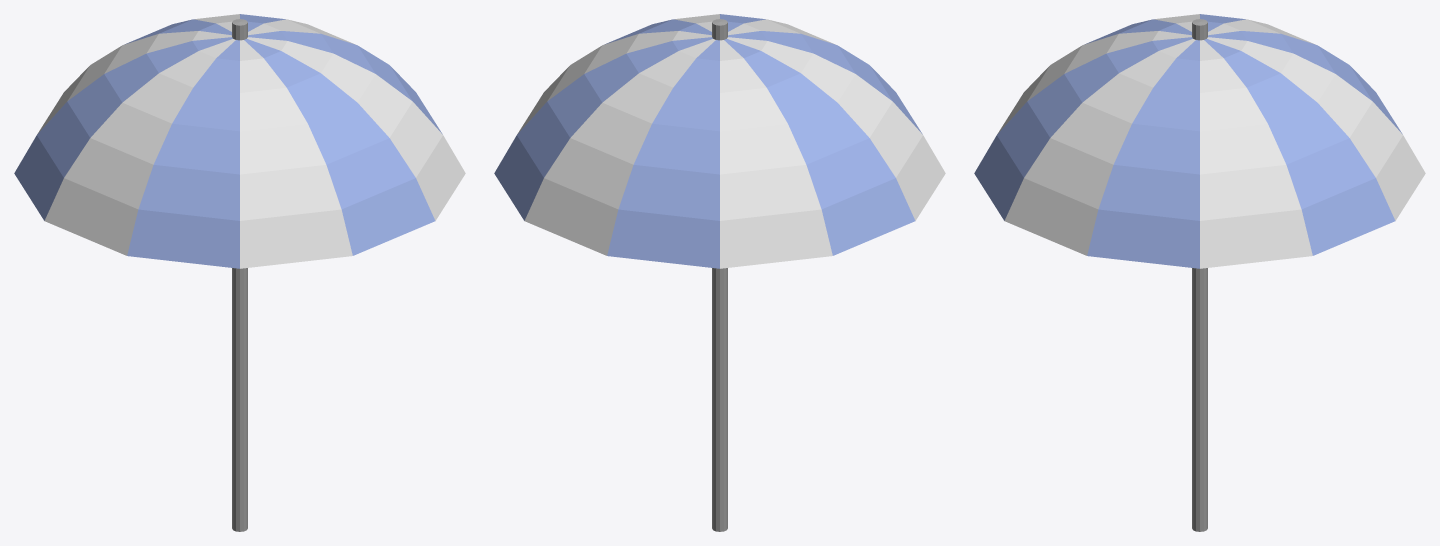
File: Umbrella.glb
The picture shows the model from 3 angles, left to right: view 1: azimuth 30°, elevation 25°; view 2: azimuth 150°, elevation 25°; view 3: azimuth 270°, elevation 25°; orthographic projection.
Visible parts, largest first — view 1: Sphere; view 2: Sphere; view 3: Sphere.
Boxes of the visible parts, x1,y1,x2,y2 form: Sphere: (14, 14, 465, 531); Sphere: (494, 14, 945, 531); Sphere: (974, 14, 1425, 531).
Bounding box in the file's own units: 1.85 × 2.29 × 1.85.
